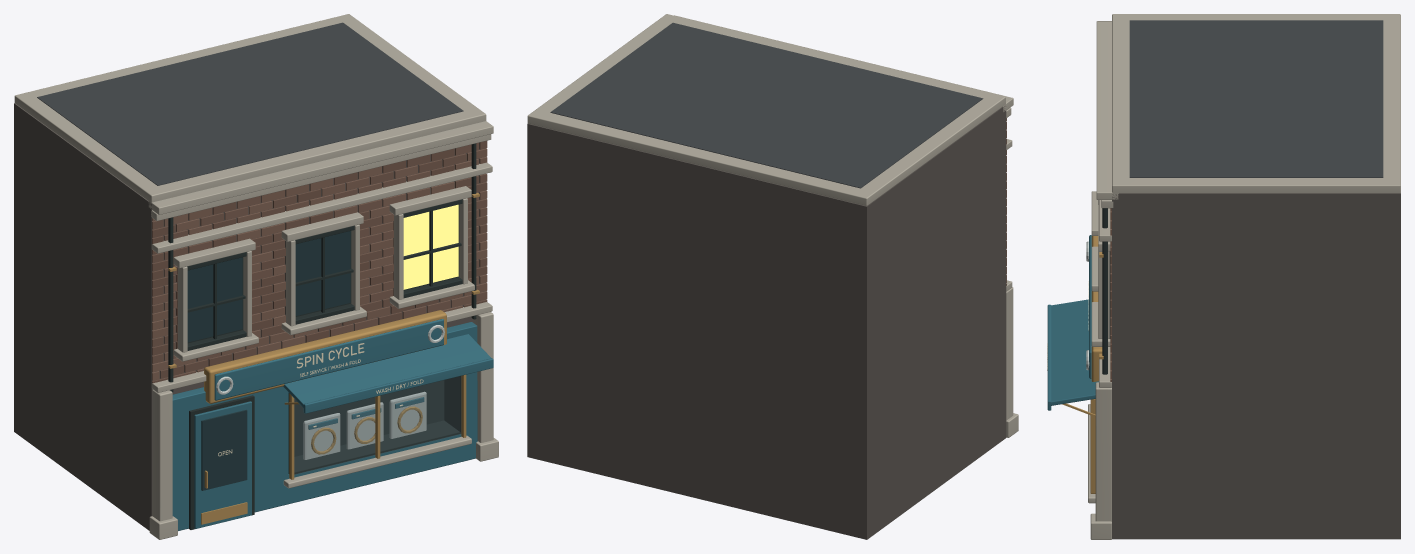
File: district-spin-cycle.glb
The picture shows the model from 3 angles, left to right: view 1: azimuth 30°, elevation 25°; view 2: azimuth 150°, elevation 25°; view 3: azimuth 270°, elevation 25°; orthographic projection. The views are drawn at different scales.
Visible parts, largest first — view 1: Existing envelope, District Roof membrane, District Warm limestone, District Coffee enamel, District Charcoal painted metal, Roof cap, District Opaque dark glazing, District Shop window clear glazing, District Brick tone 0, Sign enamel inset, District Brick tone 3, District Brick tone 4 (+7 smaller); view 2: Existing envelope, District Roof membrane, Roof cap, District Warm limestone; view 3: Existing envelope, District Roof membrane, Roof cap, District Warm limestone, District Coffee enamel, District Charcoal painted metal, District Aged brass, Sign brass frame, Sign enamel inset.
Boxes of the visible parts, bbox=[...] form: Existing envelope: bbox=[14, 103, 486, 530]; District Roof membrane: bbox=[37, 22, 463, 185]; District Warm limestone: bbox=[148, 121, 498, 539]; District Coffee enamel: bbox=[172, 322, 493, 530]; District Charcoal painted metal: bbox=[168, 143, 476, 529]; Roof cap: bbox=[14, 14, 486, 202]; District Opaque dark glazing: bbox=[187, 231, 350, 490]; District Shop window clear glazing: bbox=[294, 376, 460, 474]; District Brick tone 0: bbox=[152, 148, 487, 383]; Sign enamel inset: bbox=[214, 319, 443, 400]; District Brick tone 3: bbox=[152, 148, 487, 360]; District Brick tone 4: bbox=[152, 159, 487, 380]; Existing envelope: bbox=[527, 106, 1006, 539]; District Roof membrane: bbox=[550, 22, 983, 188]; Roof cap: bbox=[527, 14, 1005, 206]; District Warm limestone: bbox=[674, 15, 1018, 437]; Existing envelope: bbox=[1112, 193, 1400, 539]; District Roof membrane: bbox=[1129, 20, 1383, 177]; Roof cap: bbox=[1112, 14, 1400, 193]; District Warm limestone: bbox=[1088, 21, 1118, 539]; District Coffee enamel: bbox=[1047, 299, 1098, 410]; District Charcoal painted metal: bbox=[1102, 208, 1110, 374]; District Aged brass: bbox=[1062, 252, 1103, 493]; Sign brass frame: bbox=[1091, 236, 1102, 381]; Sign enamel inset: bbox=[1089, 235, 1091, 378].
Size of the model in its own units: 7.71 by 7.31 by 6.62.
